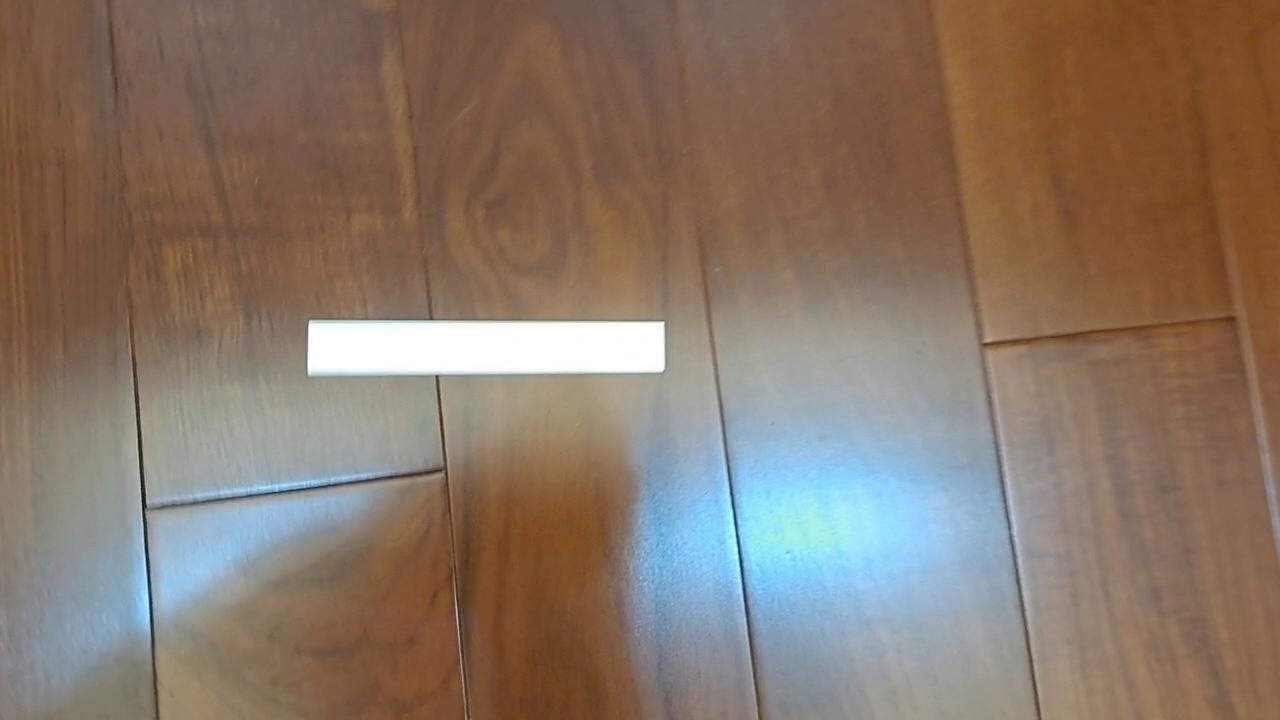ruler: (306, 319, 666, 378)
